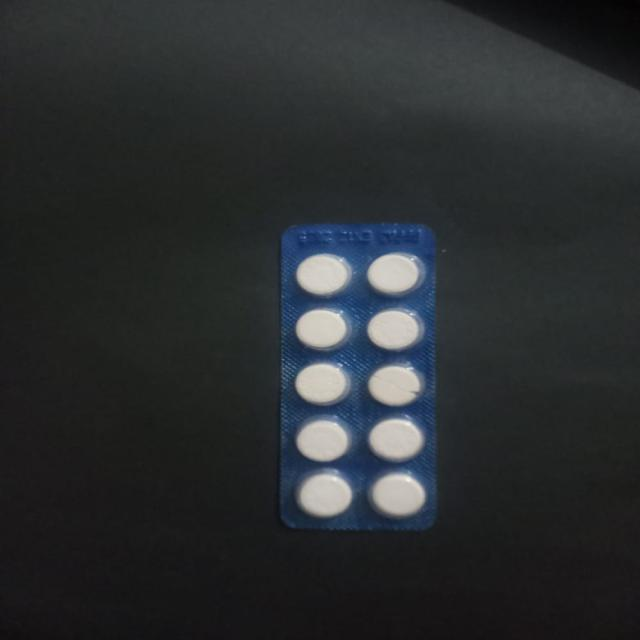defect: (362, 360, 430, 410)
